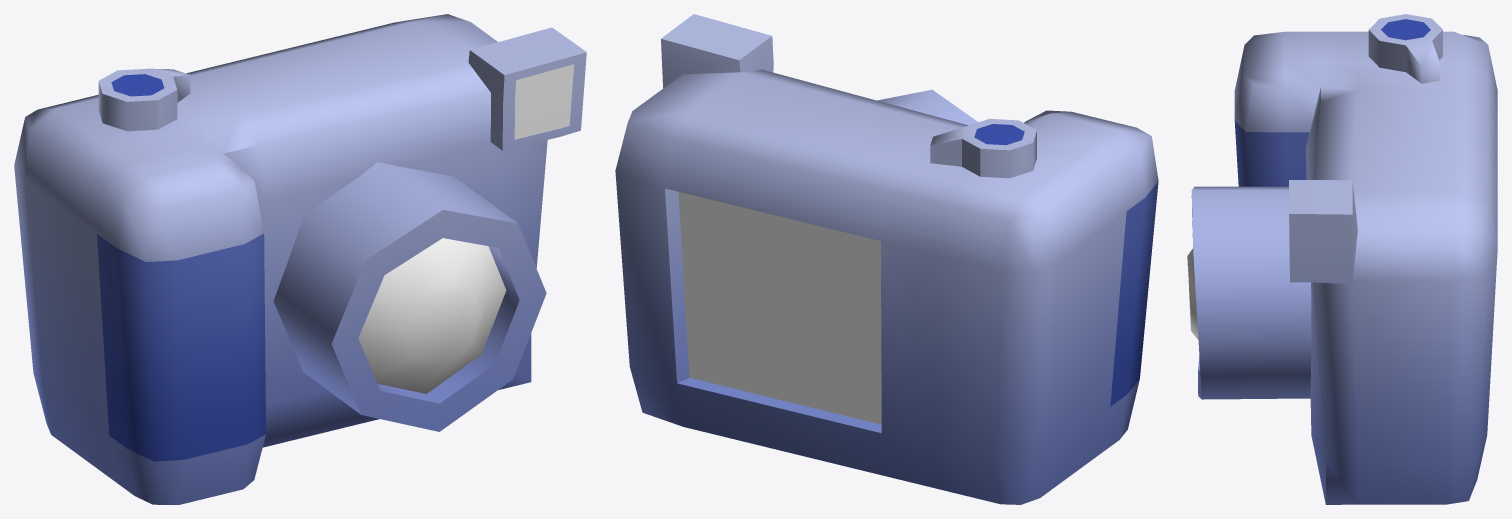
Rendered from Camera.fbx.
3 renders of one model, left to right at view 1: azimuth 30°, elevation 25°; view 2: azimuth 150°, elevation 25°; view 3: azimuth 270°, elevation 25°, orthographic. The views are drawn at different scales.
Visible parts, largest first — view 1: CameraObject; view 2: CameraObject; view 3: CameraObject.
Part boxes in pixels (box(x1,y1,x2,y2)): CameraObject: box(14, 14, 586, 504); CameraObject: box(615, 14, 1158, 504); CameraObject: box(1187, 14, 1497, 504).
Size of the model in its own units: 103 by 73.27 by 64.51.
